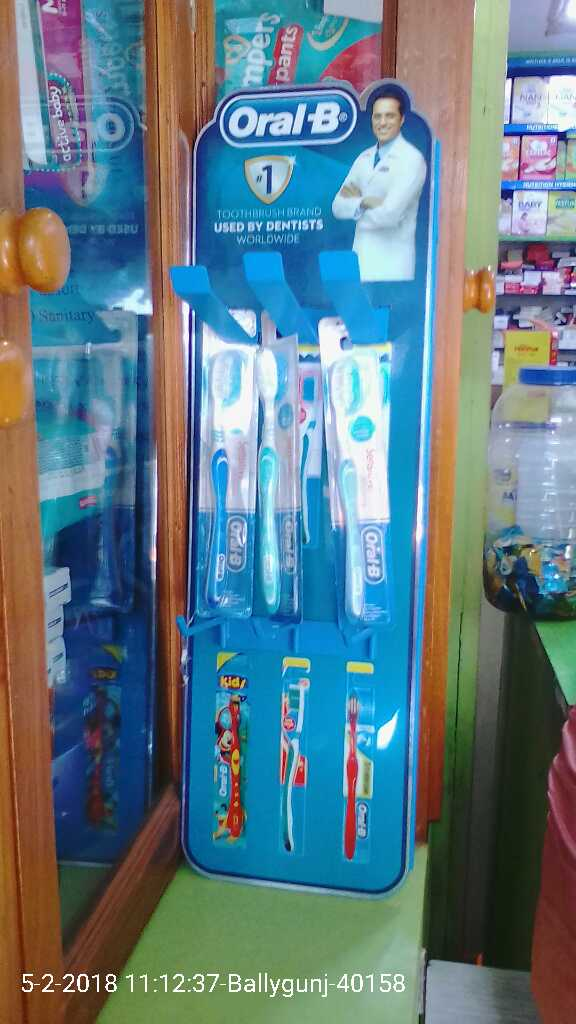oralb: (326, 332, 387, 621), (196, 351, 238, 608), (254, 346, 294, 607)
